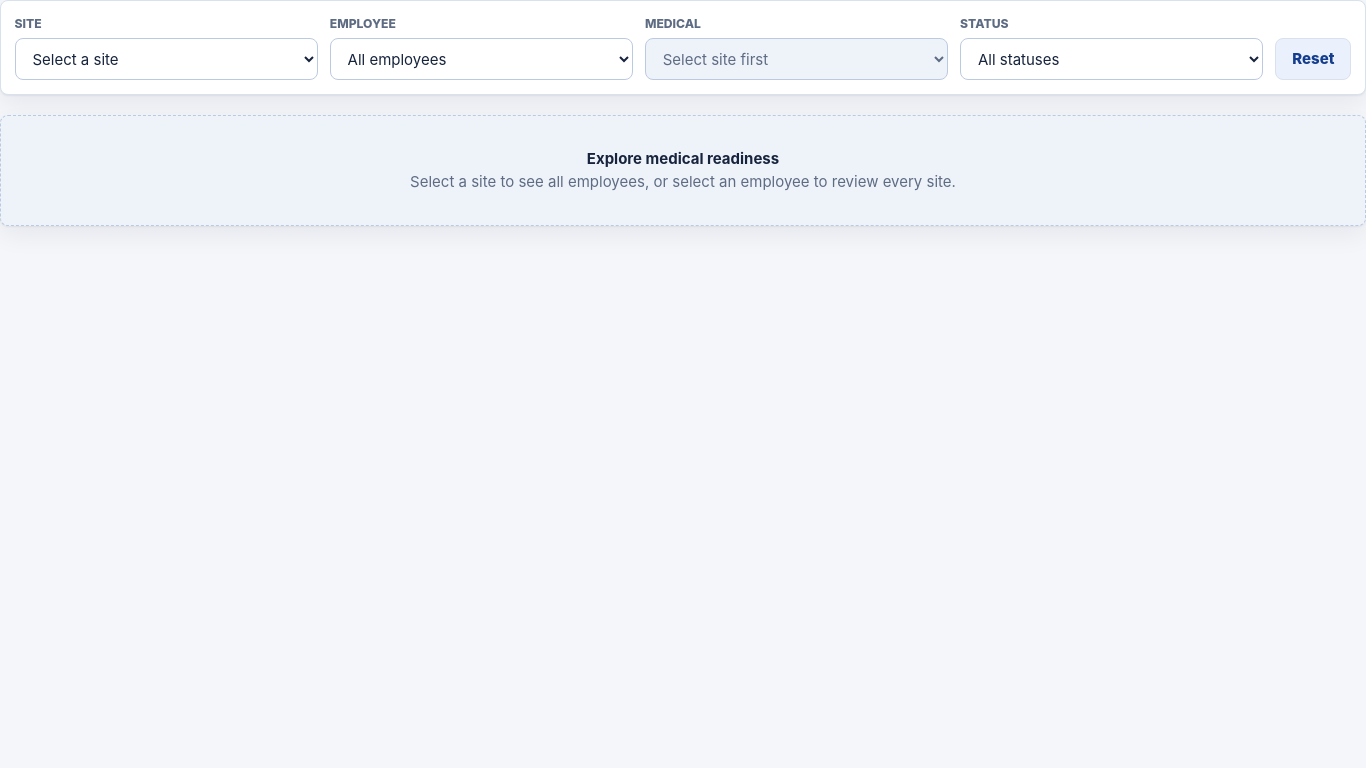
Test: Medical › keeps combined access authoritative when a Medical filter narrows status
This screenshot has width=1366, height=768.
Select "North Ridge" in the dropdown named "Site" at (166, 59), box top-left (15, 38), bottom-right (318, 80)
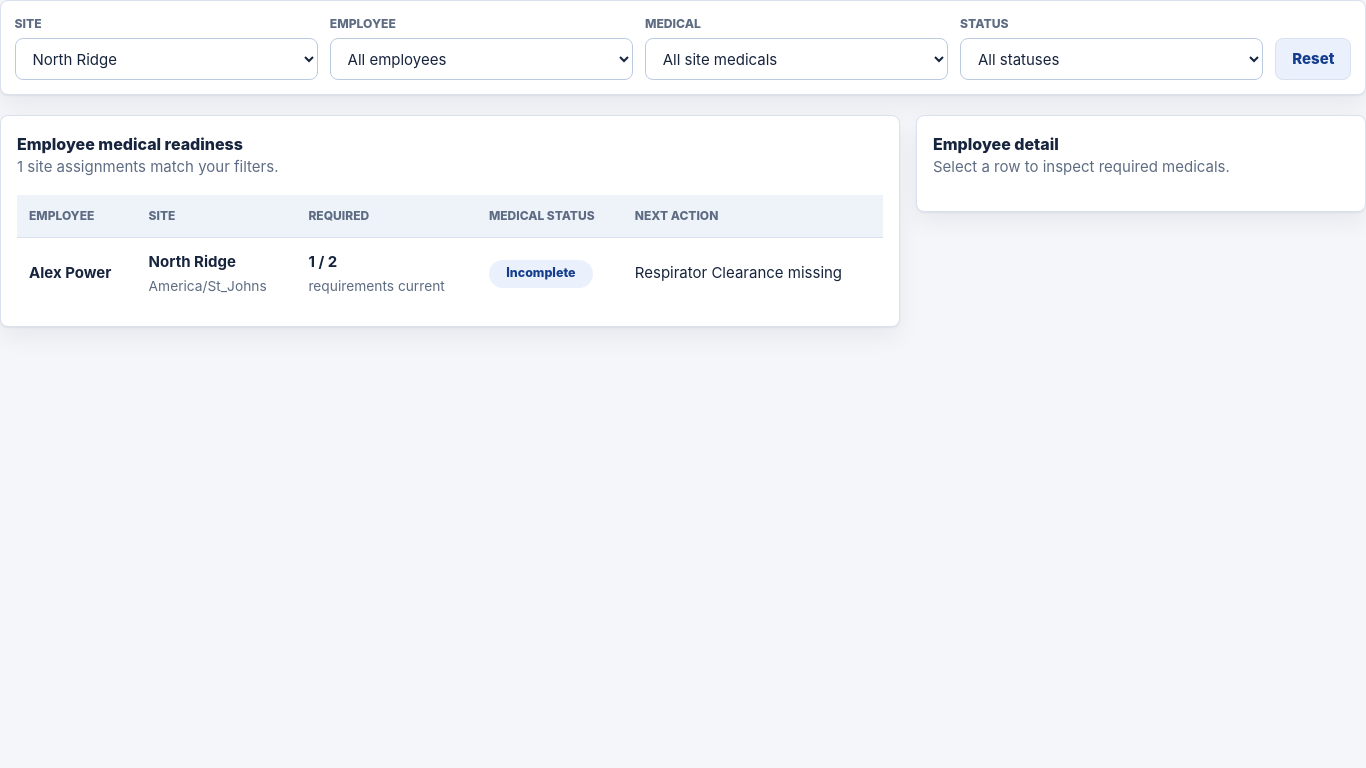
Select "Fitness to Work" in the dropdown named "Medical" at (796, 59), box top-left (645, 38), bottom-right (948, 80)
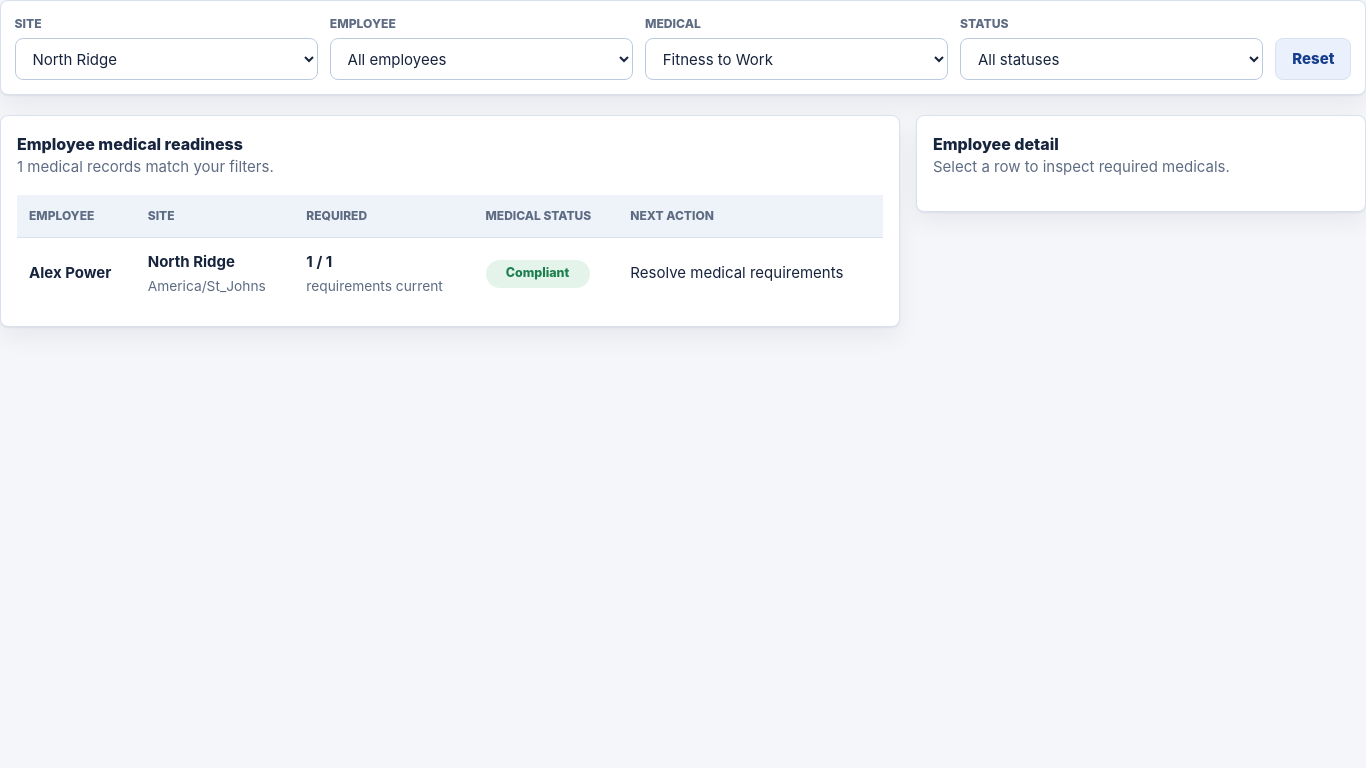
expect the table shows "Compliant": met, box top-left (506, 265), bottom-right (569, 280)
expect the table shows "1 / 1": met, box top-left (306, 252), bottom-right (332, 271)
expect the table shows "Resolve medical requirements": met, box top-left (630, 263), bottom-right (843, 282)
Click the row that starts with "Alex Power" at (70, 273), box top-left (17, 237), bottom-right (883, 310)
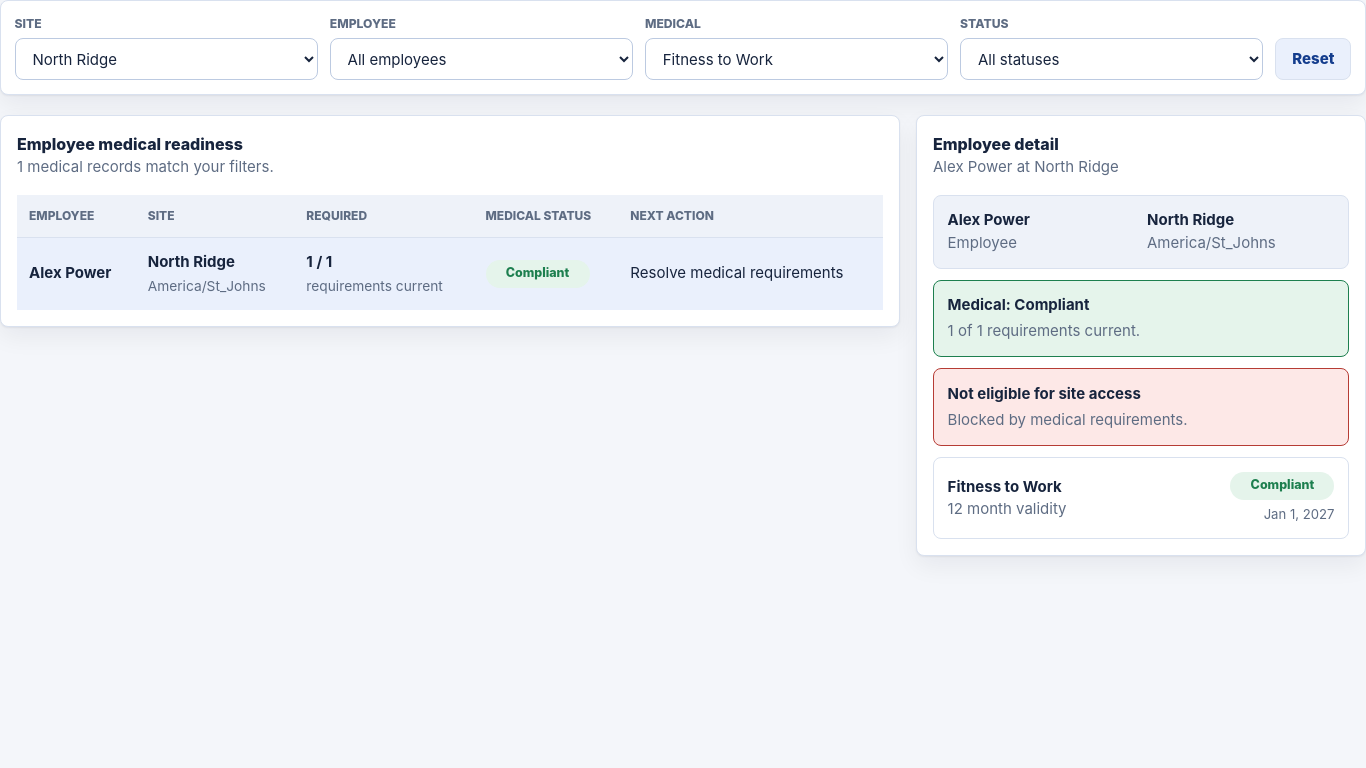
expect the element with class "detail-panel" shows "Not eligible for site access": met, box top-left (948, 384), bottom-right (1141, 403)
expect the element with class "detail-panel" shows "Blocked by medical requirements.": met, box top-left (948, 410), bottom-right (1188, 429)
